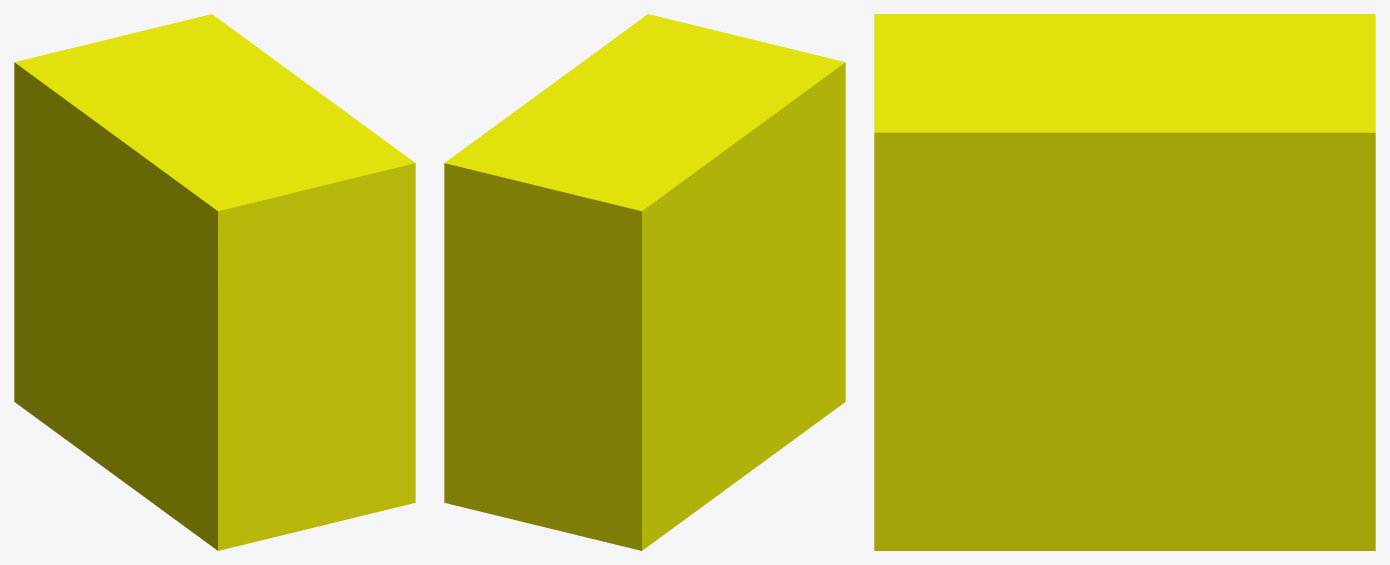
Rendered from sm_hana_swgr_h_1400x2500x2300_2d.glb.
The picture shows the model from 3 angles, left to right: view 1: azimuth 30°, elevation 25°; view 2: azimuth 150°, elevation 25°; view 3: azimuth 270°, elevation 25°; orthographic projection. The views are drawn at different scales.
Visible parts, largest first — view 1: sm_hana_swgr_h_1400x2500x2300_2d; view 2: sm_hana_swgr_h_1400x2500x2300_2d; view 3: sm_hana_swgr_h_1400x2500x2300_2d.
Part boxes in pixels (bbox=[...]): sm_hana_swgr_h_1400x2500x2300_2d: bbox=[14, 14, 415, 550]; sm_hana_swgr_h_1400x2500x2300_2d: bbox=[444, 14, 845, 550]; sm_hana_swgr_h_1400x2500x2300_2d: bbox=[874, 14, 1375, 550].
Bounding box in the file's own units: 1.4 × 2.3 × 2.5.
1 material, 1 textured.
